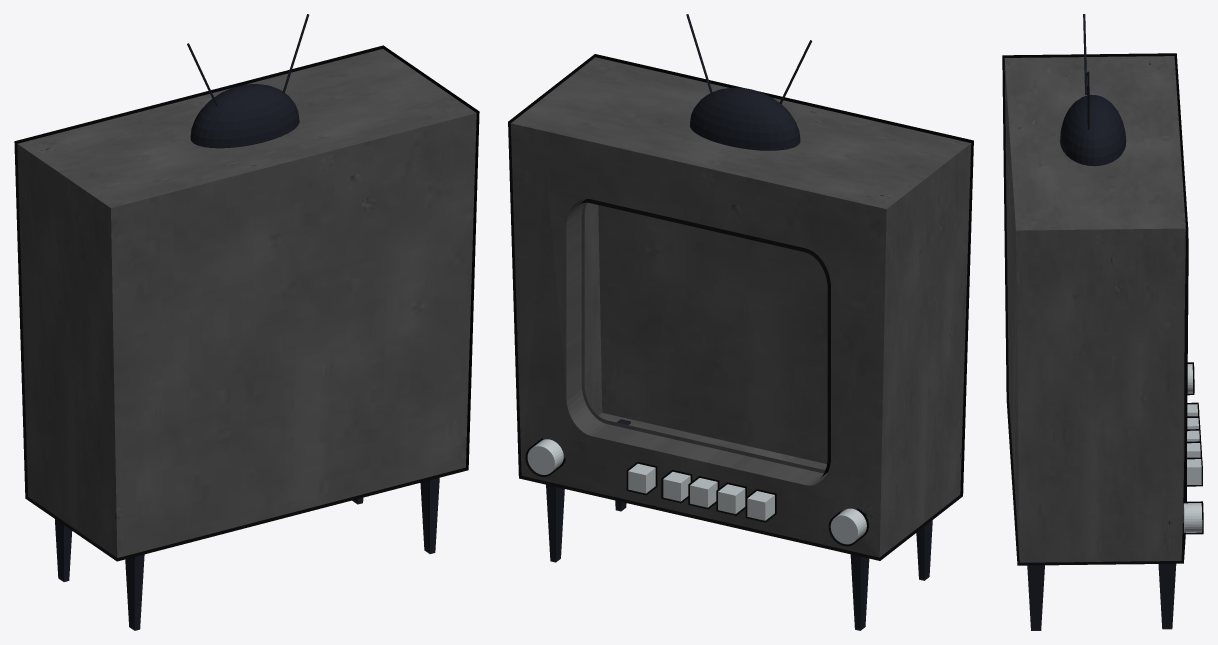
3 views of the same model, side by side, from view 1: azimuth 30°, elevation 25°; view 2: azimuth 150°, elevation 25°; view 3: azimuth 270°, elevation 25° (orthographic). The views are drawn at different scales.
Visible parts, largest first — view 1: Cuerpo, Patas; view 2: Cuerpo, Patas, Botones; view 3: Cuerpo, Patas, Botones.
Part boxes in pixels (left/top/right/bottom): Cuerpo: left=14, top=45, right=479, bottom=561; Patas: left=55, top=14, right=439, bottom=630; Cuerpo: left=508, top=54, right=973, bottom=560; Patas: left=546, top=14, right=932, bottom=630; Botones: left=525, top=438, right=868, bottom=546; Cuerpo: left=1002, top=53, right=1188, bottom=565; Patas: left=1027, top=14, right=1176, bottom=630; Botones: left=1182, top=362, right=1203, bottom=534.
Bounding box in the file's own units: 1.84 × 2.51 × 0.8871.
5 materials, 5 textured.
